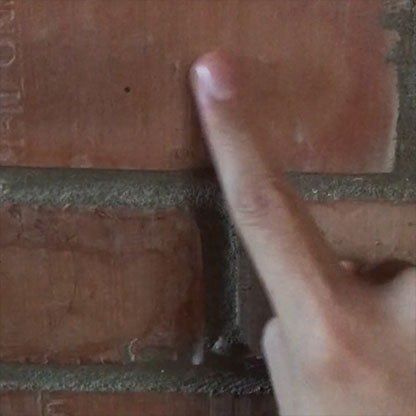fingertip: (179, 40, 251, 114)
